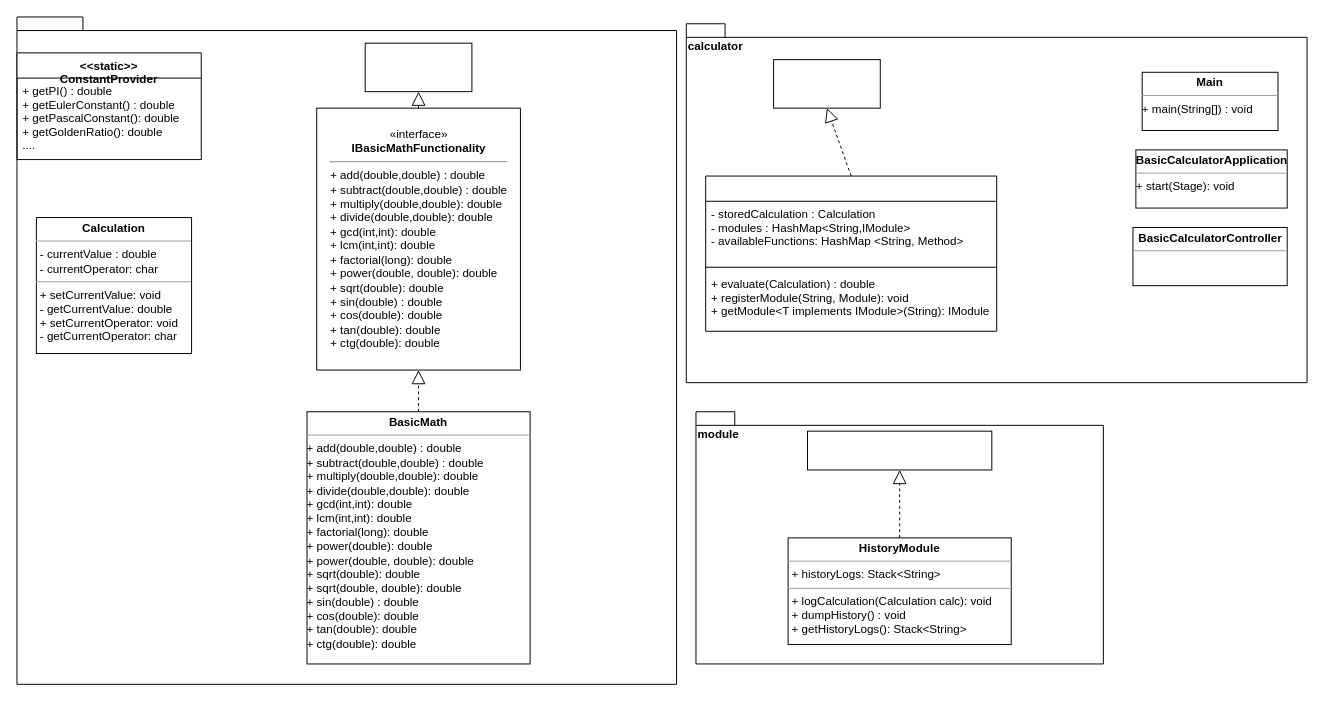
This 1324x701 diagram has some shape labels left out. The box of each missing label's shape, as (x1, y1, x2, y2) in pixels:
<<Interface>> IModule: (807, 430, 992, 470)
BasicCalculator: (705, 175, 997, 331)
providers: (16, 16, 677, 684)
«interface» ICalculator: (773, 59, 880, 108)
«interface» IMath: (364, 42, 472, 92)
